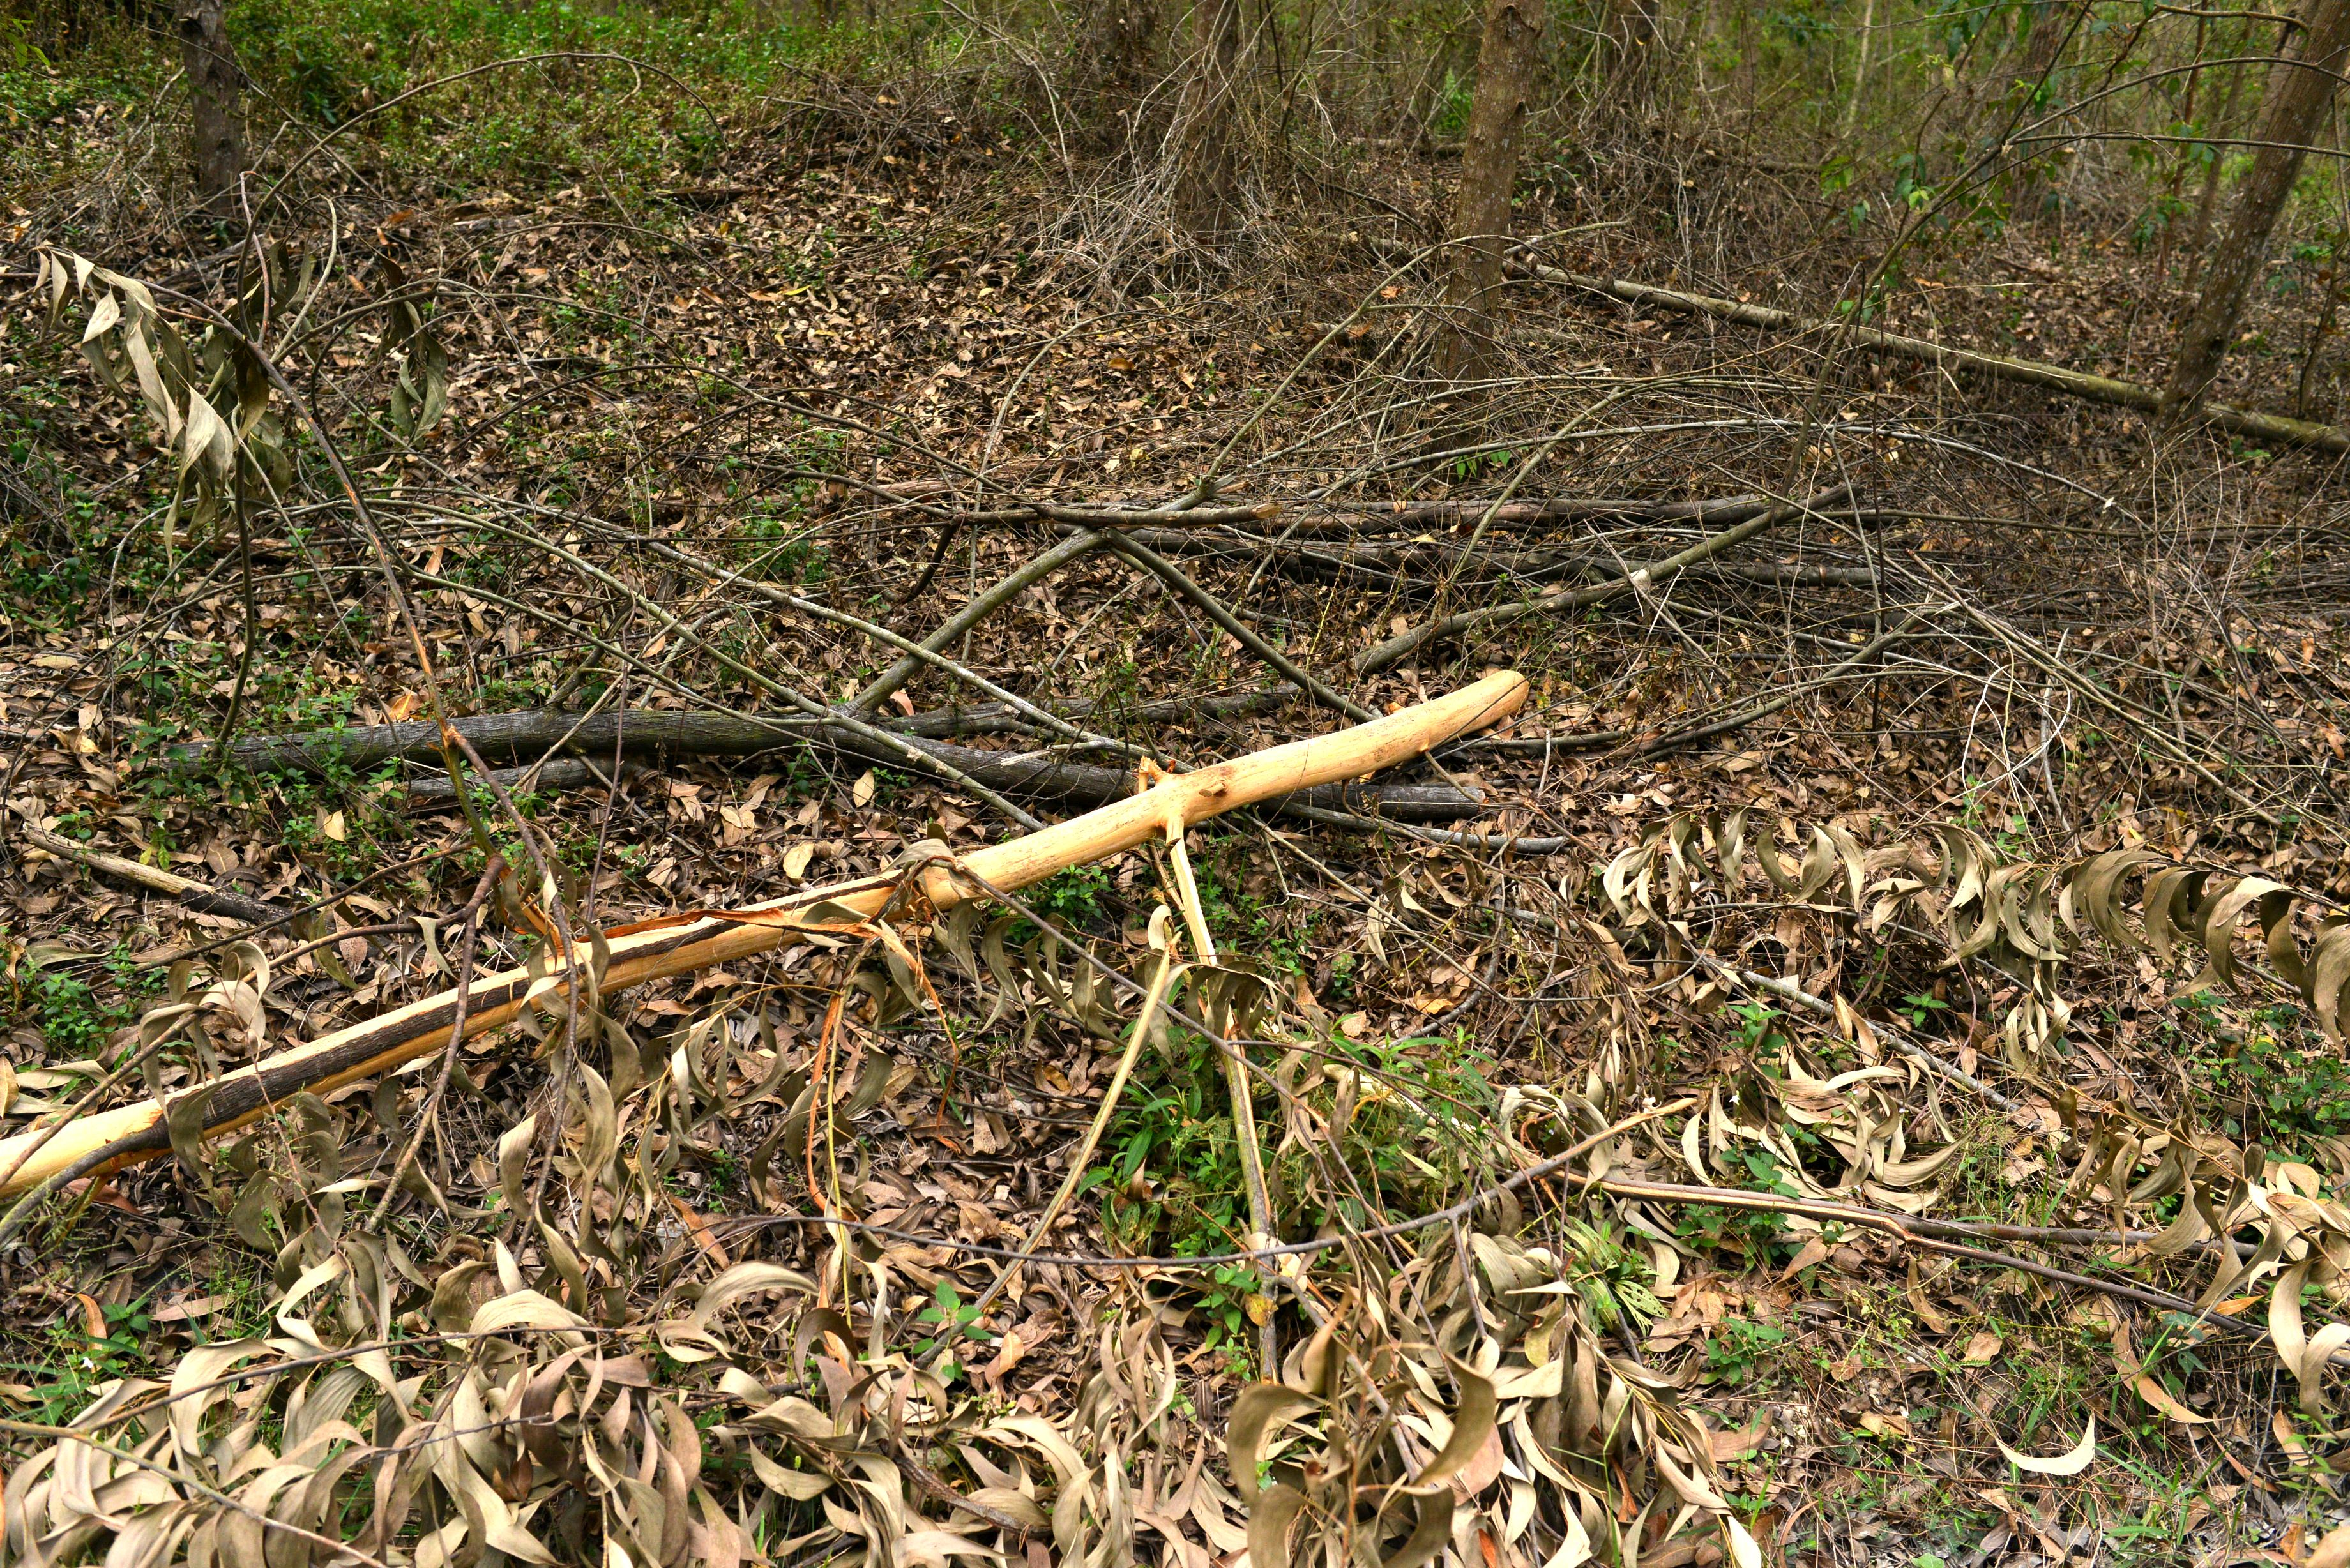Mammals Attack: (10, 658, 1536, 1220)
